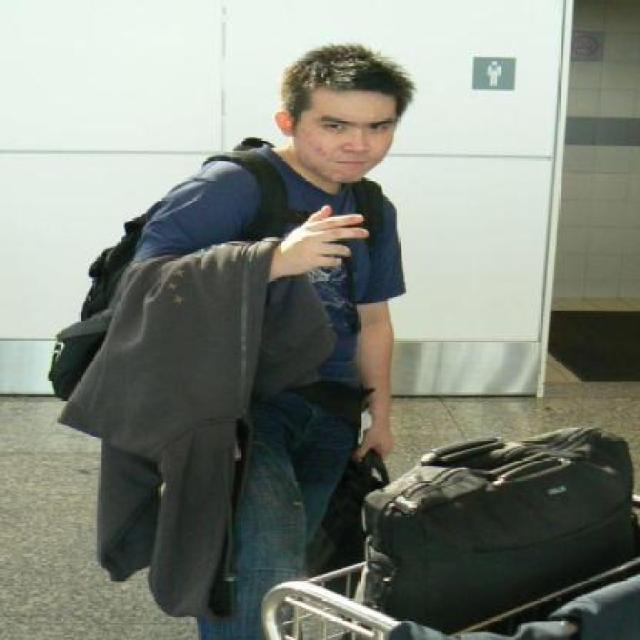backpack: (361, 421, 640, 627), (222, 148, 288, 242), (355, 175, 383, 243)
